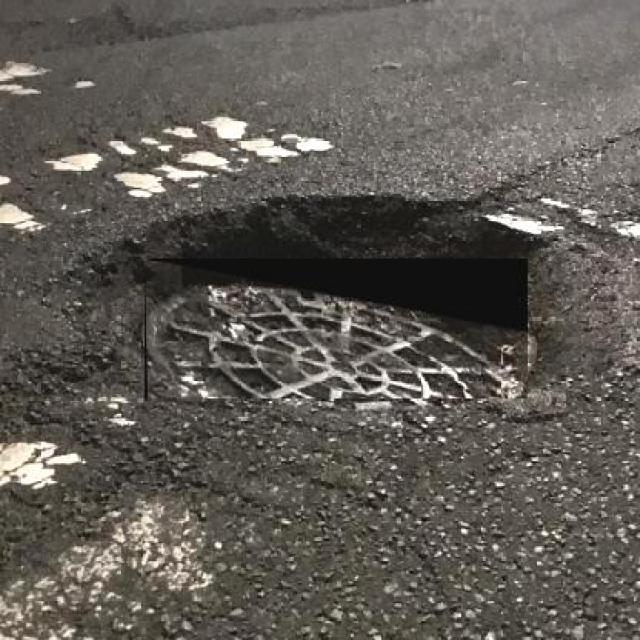Manhole: (145, 258, 528, 398)
Pothole: (72, 180, 566, 283)
